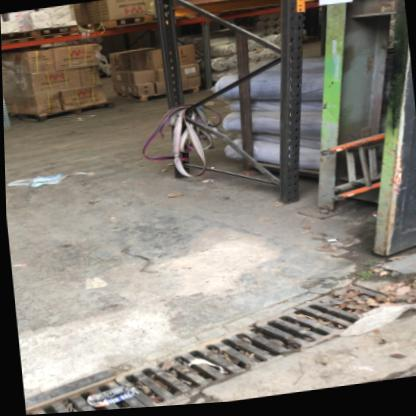vertical_damage: (3, 86, 14, 109)
